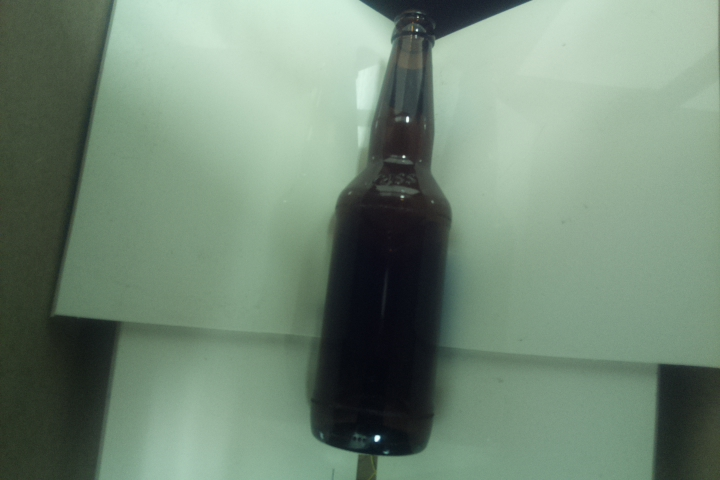makju: (306, 1, 455, 459)
